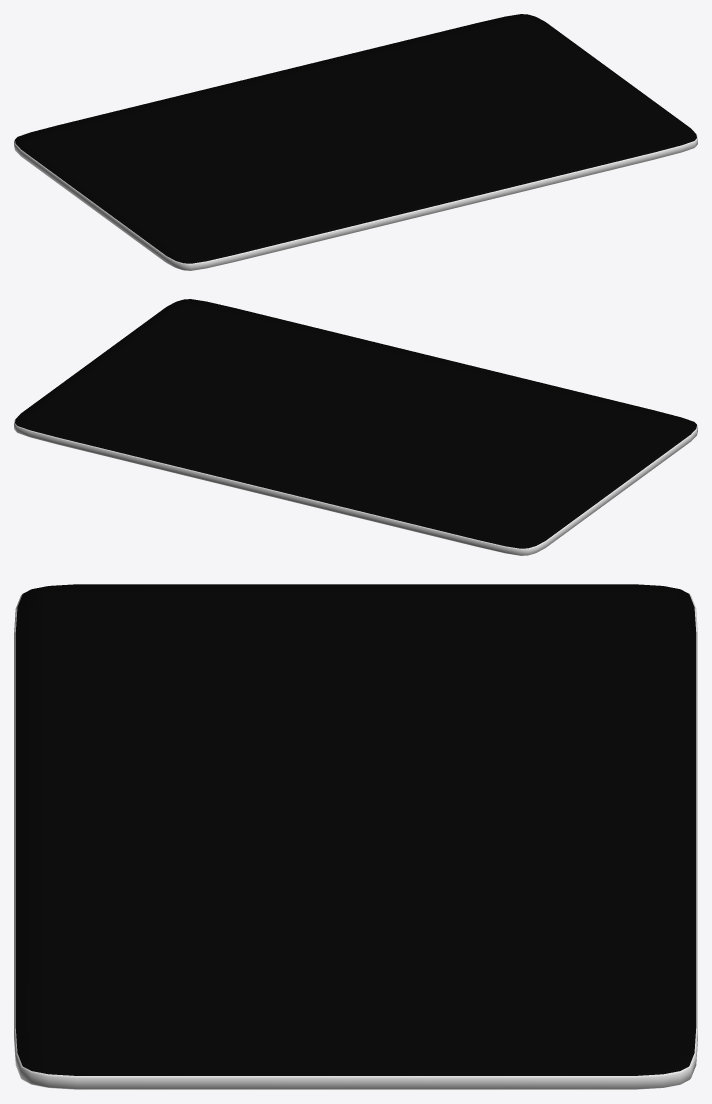
File: kblackjackcard10.fbx
3 renders of one model, top to bottom at view 1: azimuth 30°, elevation 25°; view 2: azimuth 150°, elevation 25°; view 3: azimuth 270°, elevation 25°, orthographic. The views are drawn at different scales.
Parts seen in each view (by area): view 1: Card; view 2: Card; view 3: Card.
Boxes of the visible parts, left/top/right/bottom form: Card: left=14, top=14, right=697, bottom=270; Card: left=14, top=299, right=697, bottom=555; Card: left=14, top=584, right=697, bottom=1089.
Bounding box in the file's own units: 172 × 2.24 × 101.
3 materials, 2 textured.
